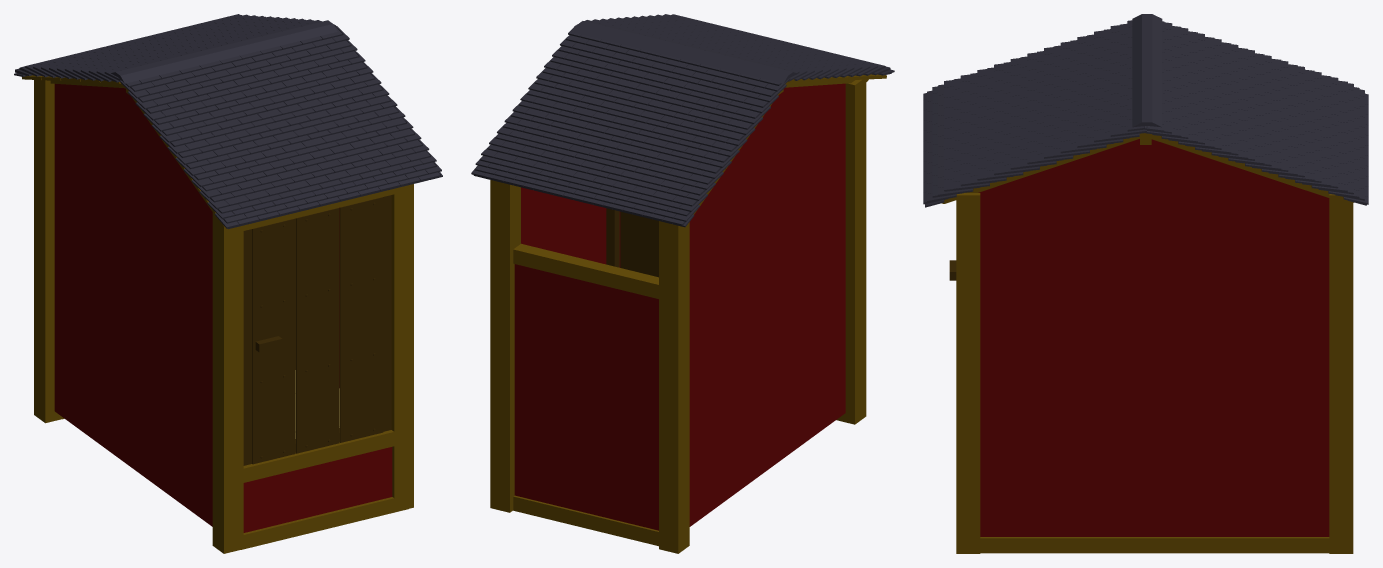
Rendered from hut3.fbx.
The picture shows the model from 3 angles, left to right: view 1: azimuth 30°, elevation 25°; view 2: azimuth 150°, elevation 25°; view 3: azimuth 270°, elevation 25°; orthographic projection. The views are drawn at different scales.
Parts seen in each view (by area): view 1: hut3; view 2: hut3; view 3: hut3.
Boxes of the visible parts, x1,y1,x2,y2 form: hut3: (14, 14, 442, 553); hut3: (471, 14, 894, 553); hut3: (923, 14, 1368, 553).
Size of the model in its own units: 125 by 227 by 210.
